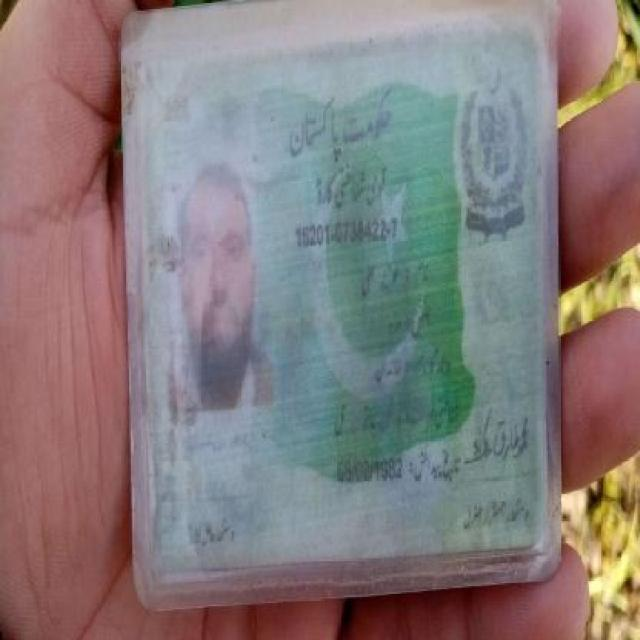Front: (120, 19, 558, 572)
